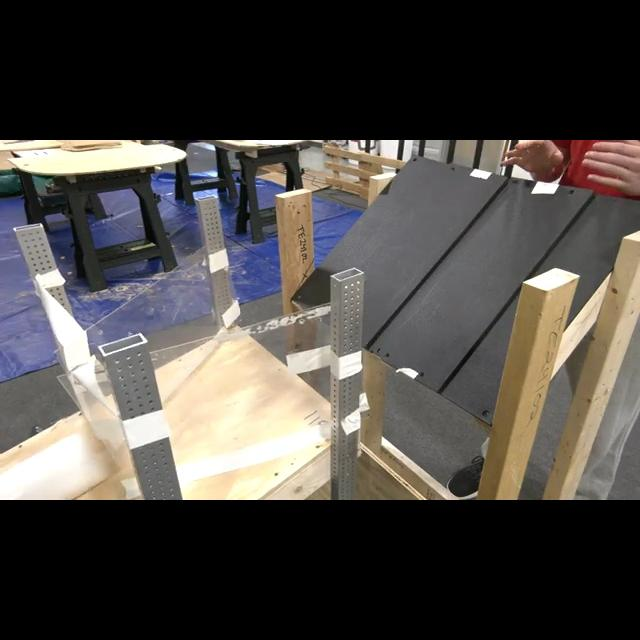CORAL: (0, 434, 110, 500)
